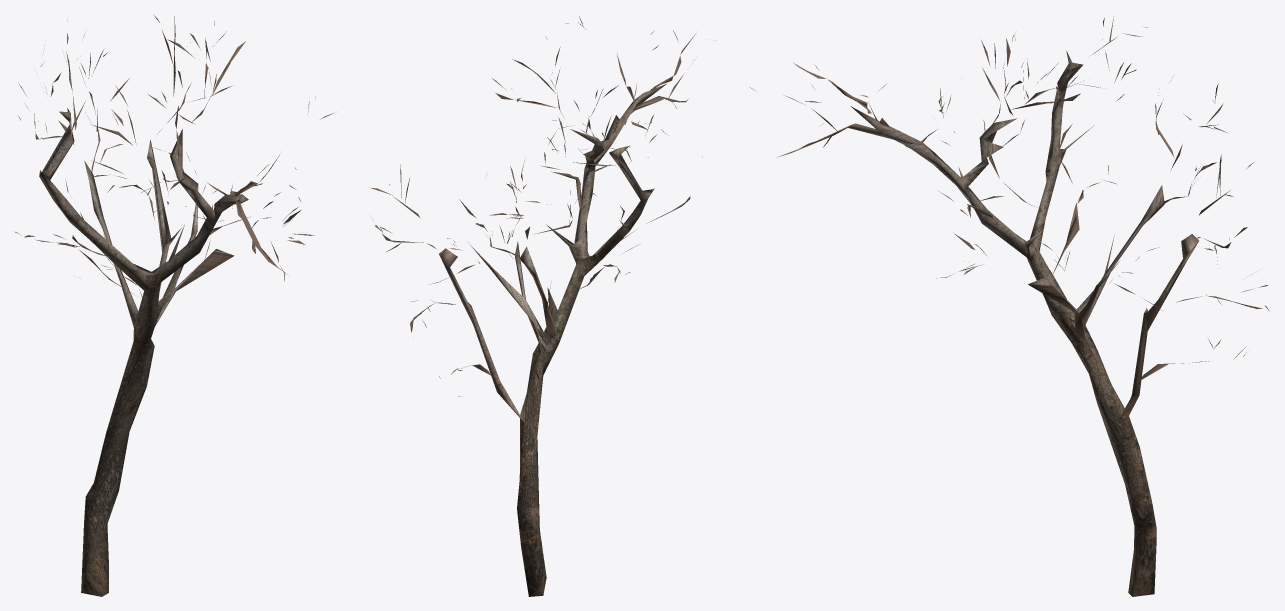
Rendered from tree_small_02_lod.fbx.
The picture shows the model from 3 angles, left to right: view 1: azimuth 30°, elevation 25°; view 2: azimuth 150°, elevation 25°; view 3: azimuth 270°, elevation 25°; orthographic projection. The views are drawn at different scales.
Visible parts, largest first — view 1: tree_trunk, tree_branches; view 2: tree_trunk, tree_branches; view 3: tree_trunk, tree_branches.
Boxes of the visible parts, left/top/right/bottom form: tree_trunk: left=39, top=108, right=248, bottom=596; tree_branches: left=14, top=15, right=333, bottom=297; tree_trunk: left=439, top=83, right=667, bottom=596; tree_branches: left=371, top=16, right=716, bottom=396; tree_trunk: left=850, top=51, right=1199, bottom=596; tree_branches: left=750, top=16, right=1269, bottom=380.
Bounding box in the file's own units: 202 × 422 × 340.
